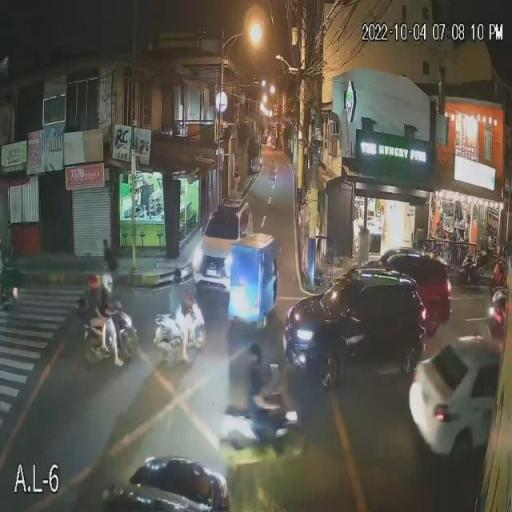helmet: (242, 344, 266, 367), (86, 272, 101, 292), (101, 272, 113, 293), (170, 266, 183, 282)
motorcycle: (212, 399, 310, 468), (72, 315, 143, 363), (150, 312, 212, 352)
rider: (244, 372, 286, 443), (168, 284, 192, 364), (105, 295, 125, 370), (88, 294, 102, 330)
